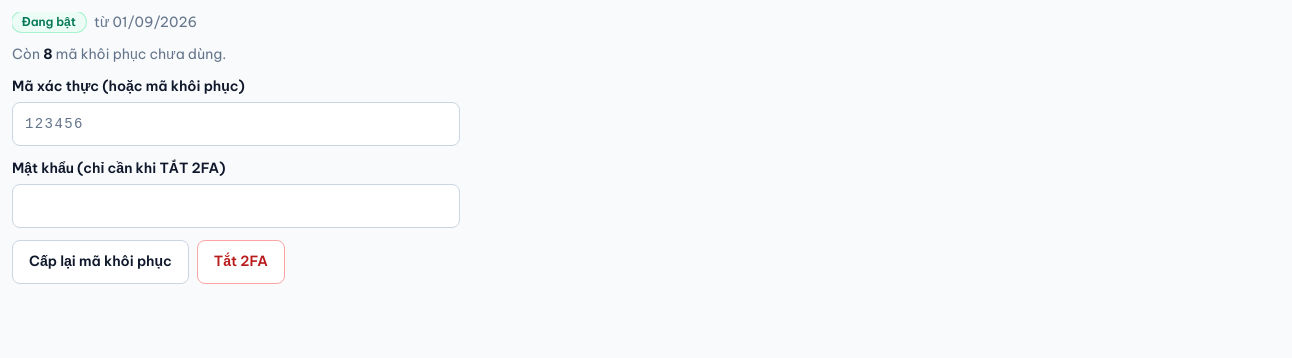
Test: TwoFactorManager — tắt 2FA báo lỗi › mã và mật khẩu vừa gõ còn nguyên; chúng chỉ đi TỚI action, không quay về
In the field labelled "Mã xác thực (hoặc mã khôi phục)": [236, 124] box [12,102,460,146], type "123457"
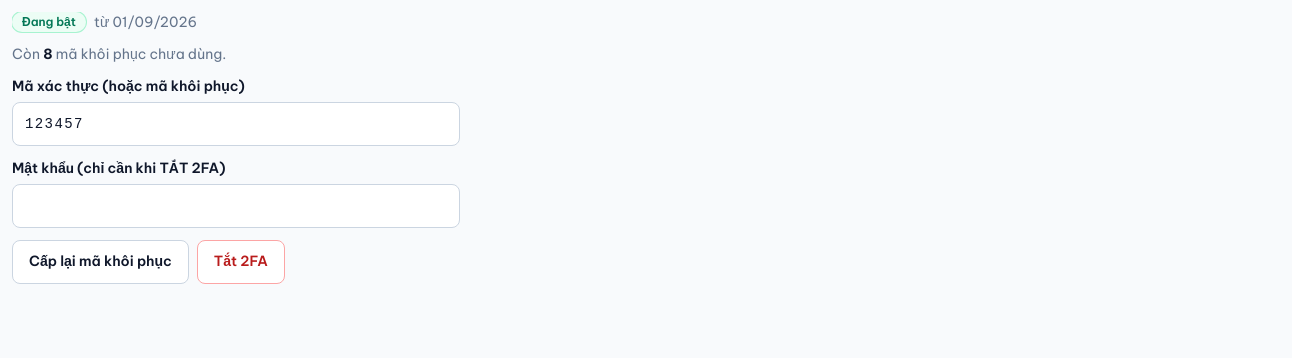
In the password field labelled "Mật khẩu (chỉ cần khi TẮT 2FA)": [236, 206] box [12,184,460,228], type "mat-khau-dung"
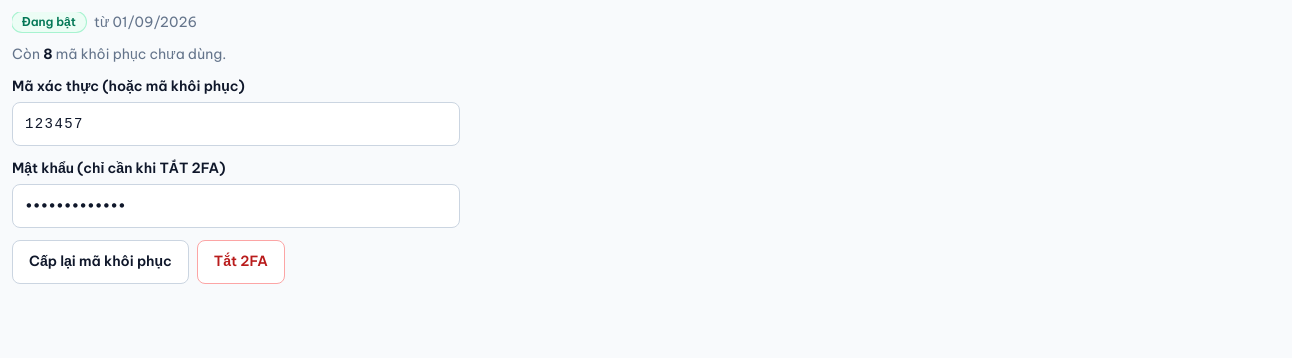
Click the button "Tắt 2FA": [241, 262] box [197,240,285,284]
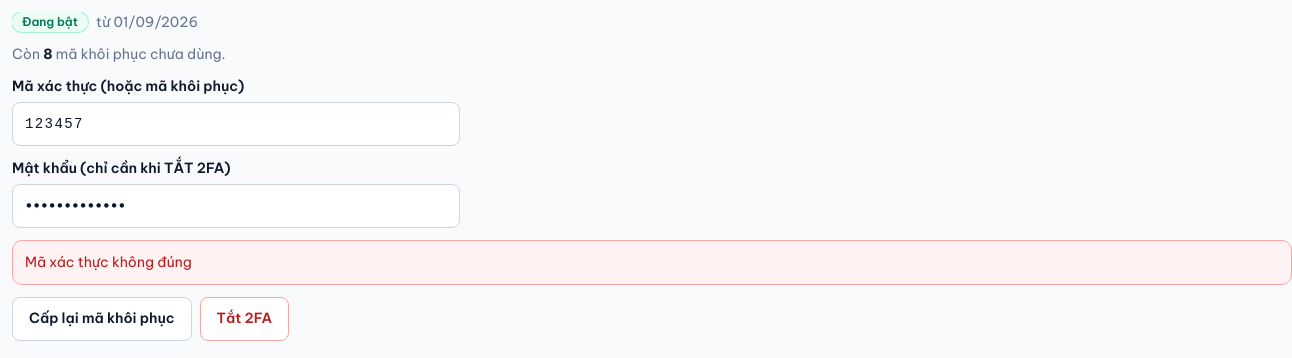
Check: the message reads "Mã xác thực không đúng", box [25,253,192,271]
